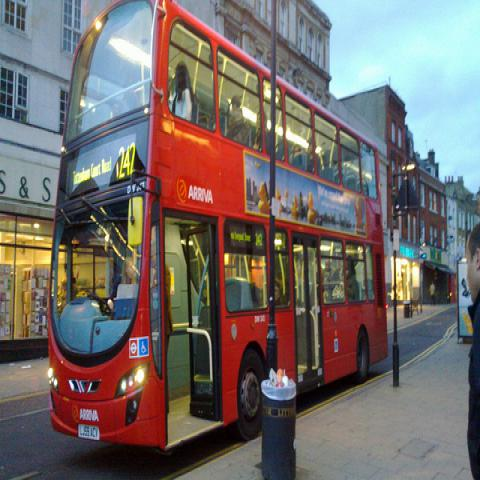bus: (50, 0, 388, 454)
